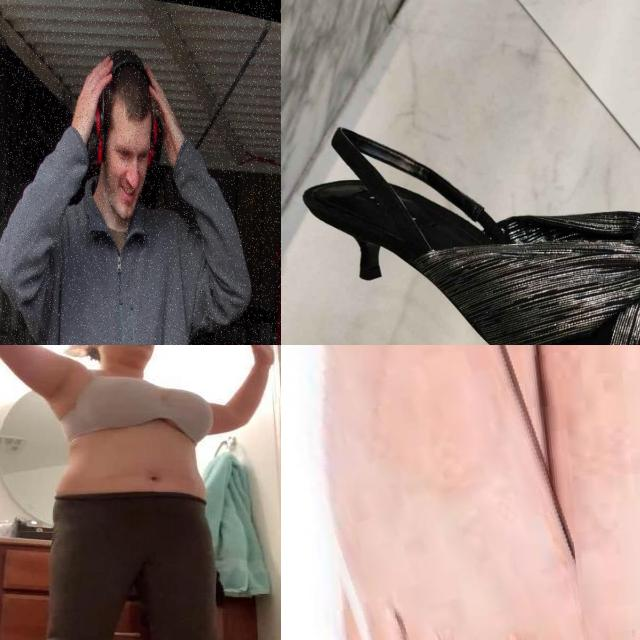Barefoots: (281, 345, 620, 640), (535, 345, 640, 640)
No_Glasses: (112, 138, 150, 165)
Sandals: (291, 69, 640, 345)
face_nomask: (109, 163, 147, 220), (119, 345, 161, 358)
hand_noglove: (147, 68, 185, 167), (72, 56, 112, 143), (227, 345, 280, 384)
head_nohelmet: (98, 49, 152, 159)
person: (0, 345, 278, 640)
